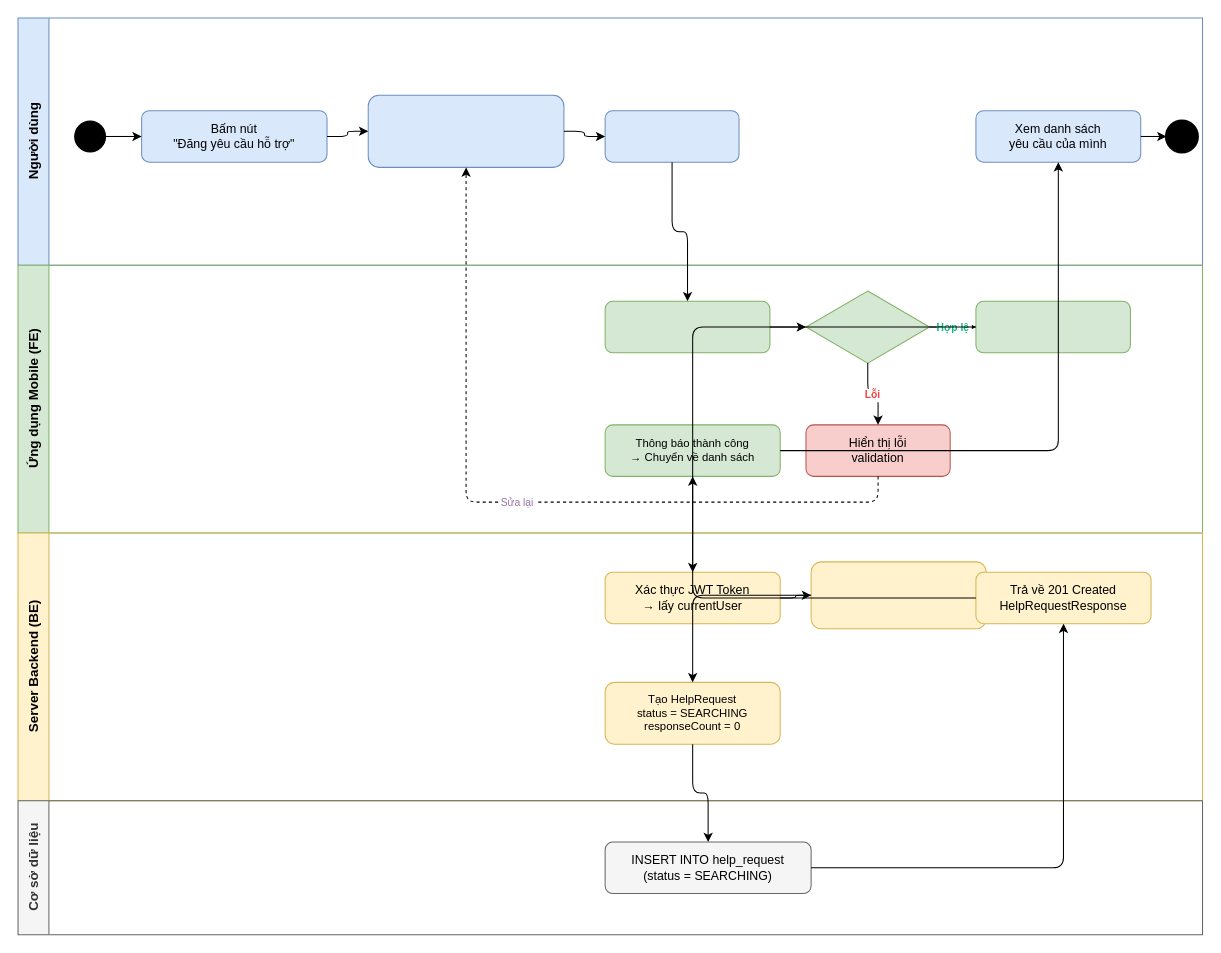
Some shapes in this 1221 by 953 pixel diagram are drawn without their labels. The centre of each missing label's shape, as x and y in pixels:
Bấm "Đăng": pixel 671 136
Dữ liệu hợp lệ?: pixel 867 326
Gửi POST /help-requests: pixel 1052 326
Nhập thông tin: Tiêu đề, Mô tả, Danh mục, Trình độ, Thời gian, TC: pixel 465 130
Validate dữ liệu (required fields): pixel 687 326
Validate request (title required, timeCreditAmount ≥ 1): pixel 898 595
